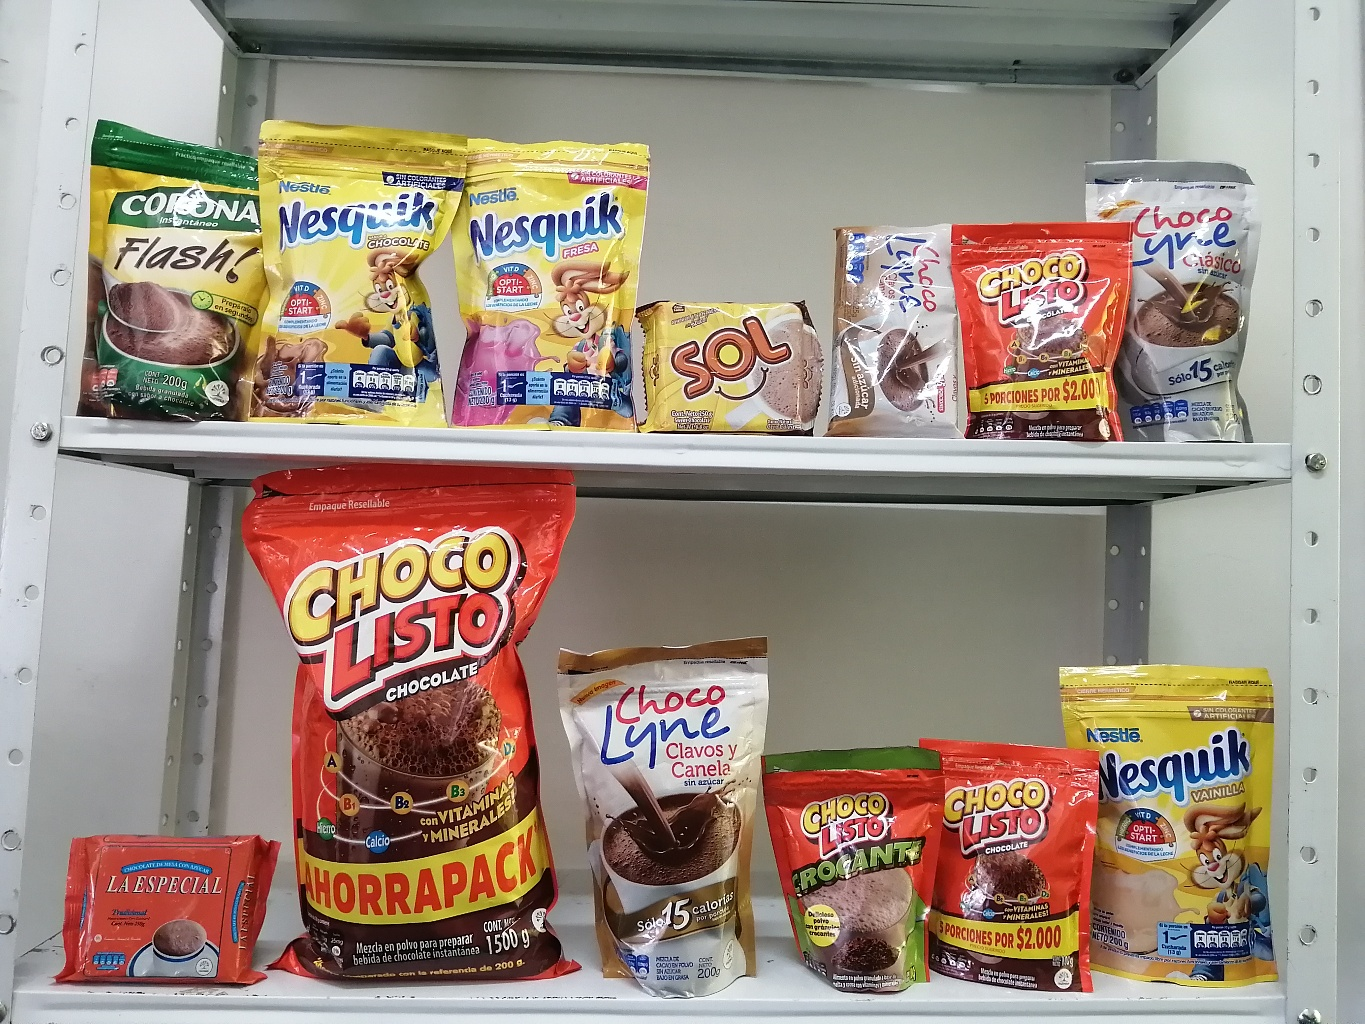COL0170102DYP10000: (748, 721, 945, 1001)
COL0170103DYP1,500: (217, 450, 593, 995)
COL0170103DYP10000: (902, 711, 1115, 1007)
COL0170303DYP20000: (228, 101, 468, 432)
COL0170305DYP20000: (440, 130, 664, 432)
COL0170306DYP20000: (1034, 644, 1302, 1002)
